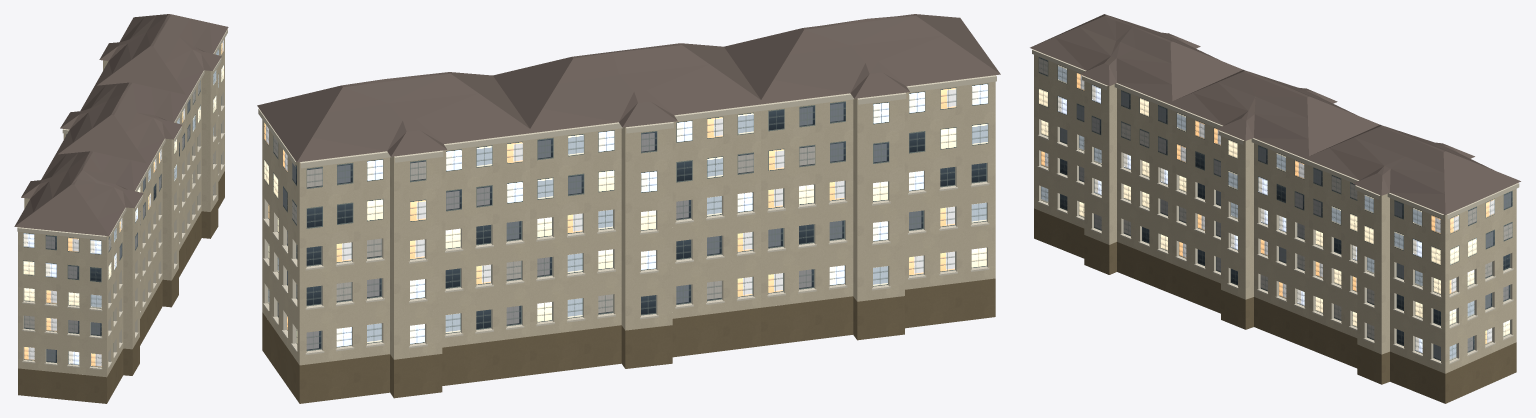
The model's file is z3R2_zyp_nw.glb.
The picture shows the model from 3 angles, left to right: view 1: azimuth 30°, elevation 25°; view 2: azimuth 150°, elevation 25°; view 3: azimuth 270°, elevation 25°; orthographic projection. The views are drawn at different scales.
Parts seen in each view (by area): view 1: z3R2_zyp_nw; view 2: z3R2_zyp_nw; view 3: z3R2_zyp_nw.
Boxes of the visible parts, x1=… form: z3R2_zyp_nw: x1=14, y1=14, x2=228, y2=403; z3R2_zyp_nw: x1=257, y1=14, x2=1000, y2=403; z3R2_zyp_nw: x1=1030, y1=14, x2=1520, y2=403.
Bounding box in the file's own units: 42.92 × 22.16 × 44.38.
3 materials, 3 textured.
